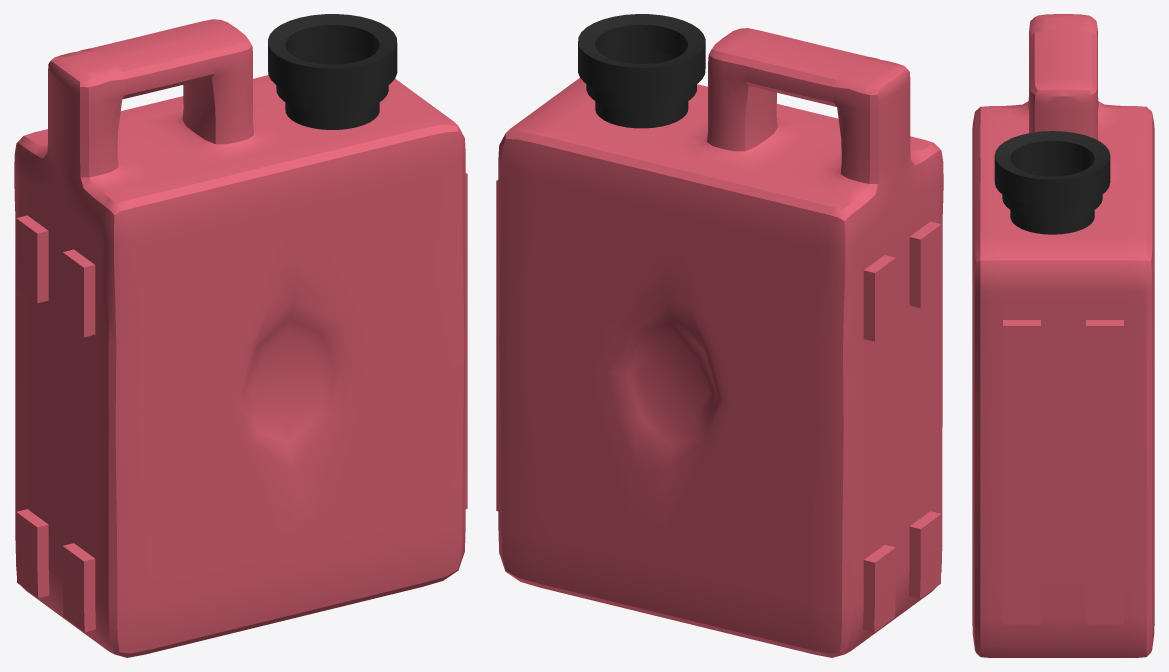
Rendered from gascan.fbx.
3 views of the same model, side by side, from view 1: azimuth 30°, elevation 25°; view 2: azimuth 150°, elevation 25°; view 3: azimuth 270°, elevation 25° (orthographic). The views are drawn at different scales.
Visible parts, largest first — view 1: GasCan; view 2: GasCan; view 3: GasCan.
Part boxes in pixels (bbox=[...]): GasCan: bbox=[14, 14, 467, 657]; GasCan: bbox=[496, 14, 943, 657]; GasCan: bbox=[972, 14, 1154, 657].
Size of the model in its own units: 214 by 299 by 98.82.
